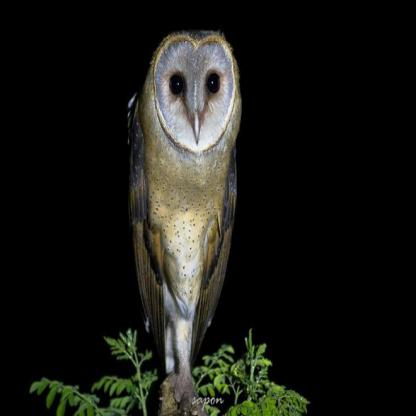Burung: (125, 30, 243, 398)
